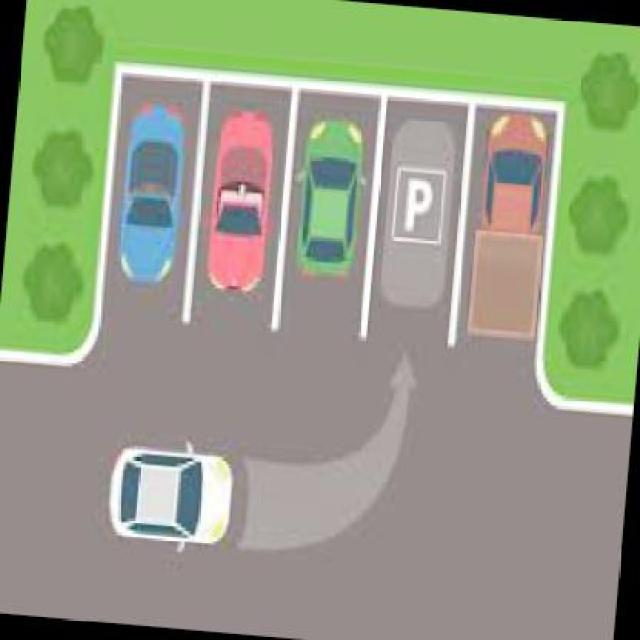Car: (460, 118, 564, 379), (113, 101, 195, 293), (106, 444, 244, 558), (207, 104, 280, 301), (298, 109, 369, 289)
Empty: (369, 109, 476, 350)
